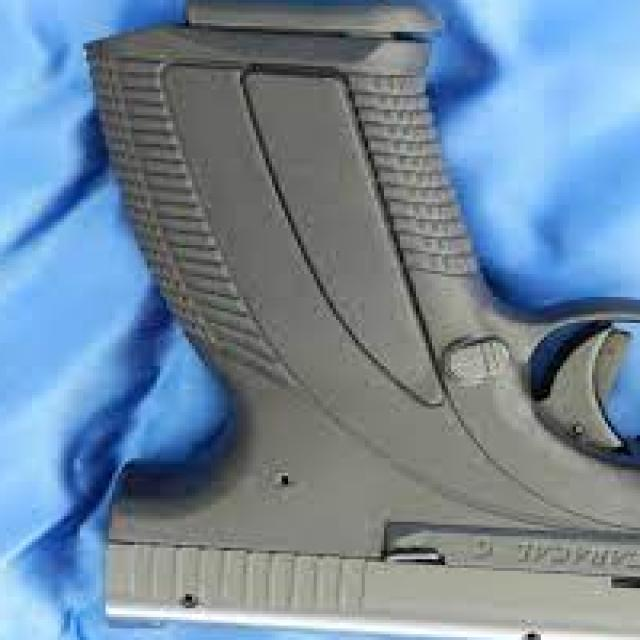Gun: (86, 0, 640, 640)
